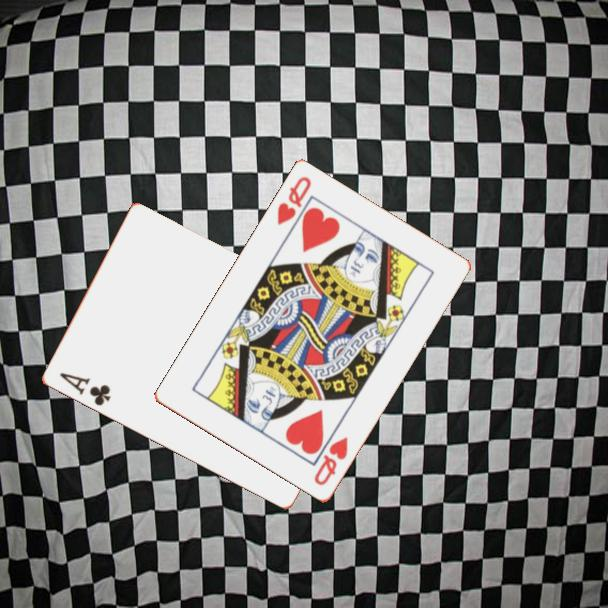c01: (56, 369, 113, 409)
h12: (310, 434, 351, 489), (274, 173, 314, 229)
